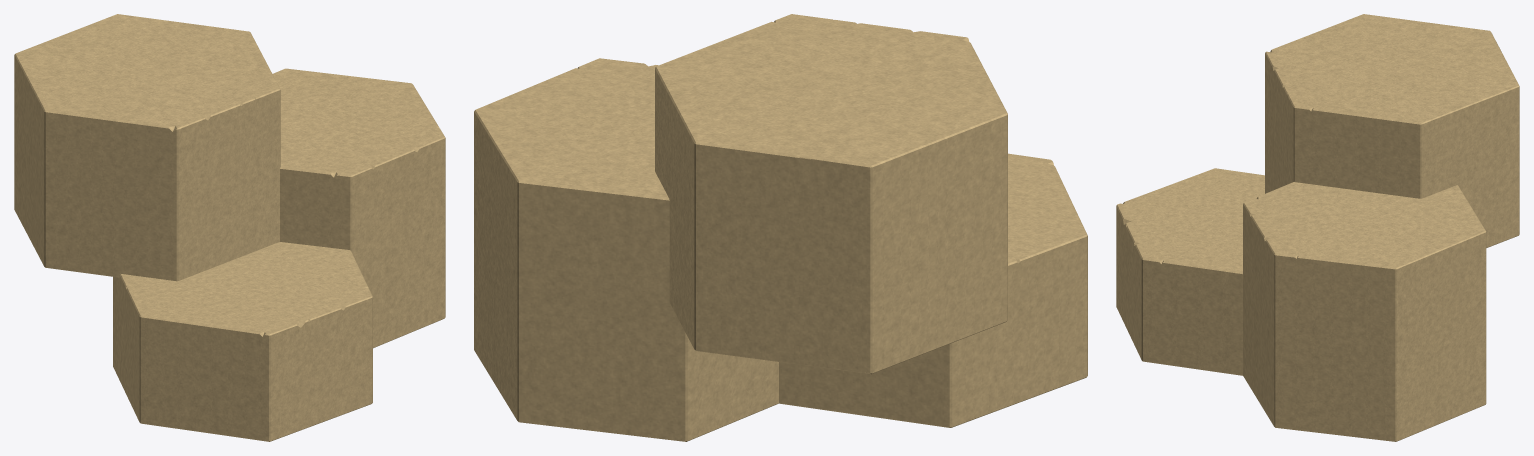
The model's file is OrirockConcentration_Finished.fbx.
The picture shows the model from 3 angles, left to right: view 1: azimuth 30°, elevation 25°; view 2: azimuth 150°, elevation 25°; view 3: azimuth 270°, elevation 25°; orthographic projection. The views are drawn at different scales.
Visible parts, largest first — view 1: 提纯源岩_左后_宽顶短壁, 提纯源岩_前方_宽扁断块, 提纯源岩_右后_斜切与下阶; view 2: 提纯源岩_左后_宽顶短壁, 提纯源岩_右后_斜切与下阶, 提纯源岩_前方_宽扁断块; view 3: 提纯源岩_右后_斜切与下阶, 提纯源岩_左后_宽顶短壁, 提纯源岩_前方_宽扁断块.
Boxes of the visible parts, x1,y1,x2,y2 form: 提纯源岩_左后_宽顶短壁: (14, 14, 280, 281); 提纯源岩_前方_宽扁断块: (113, 242, 372, 441); 提纯源岩_右后_斜切与下阶: (272, 68, 445, 348); 提纯源岩_左后_宽顶短壁: (655, 14, 1007, 374); 提纯源岩_右后_斜切与下阶: (474, 58, 811, 441); 提纯源岩_前方_宽扁断块: (779, 153, 1087, 427); 提纯源岩_右后_斜切与下阶: (1243, 182, 1486, 441); 提纯源岩_左后_宽顶短壁: (1265, 14, 1519, 247); 提纯源岩_前方_宽扁断块: (1116, 168, 1264, 375).
Size of the model in its own units: 165 by 106 by 156.
